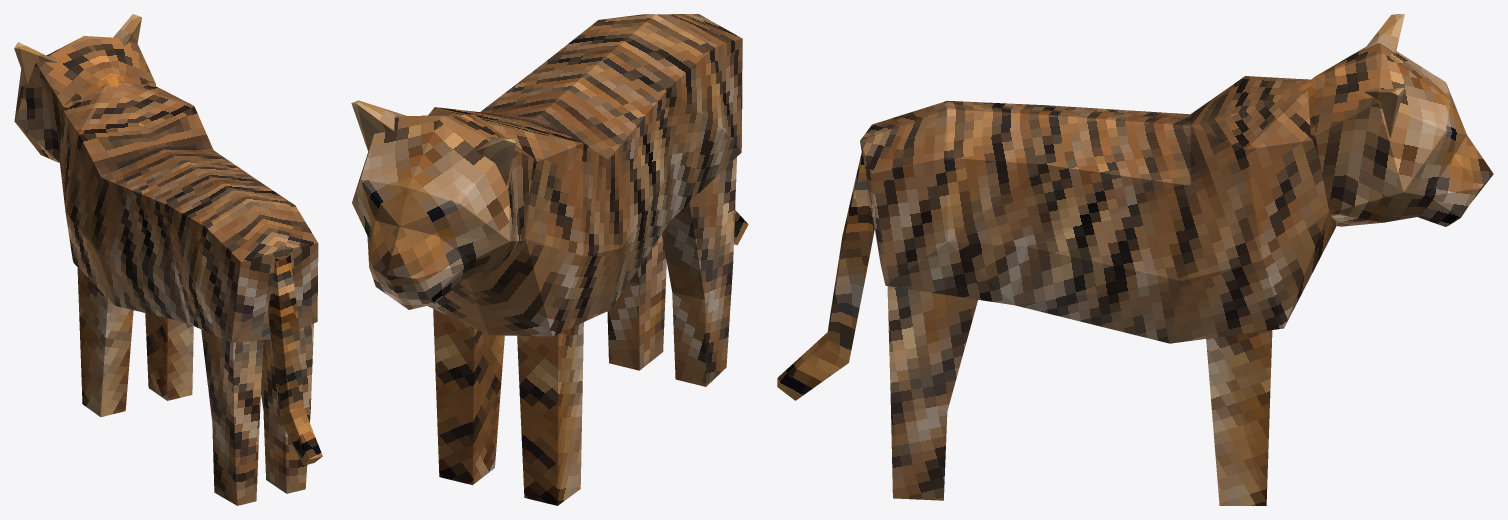
File: Tiger_Tiger.glb
3 renders of one model, left to right at view 1: azimuth 30°, elevation 25°; view 2: azimuth 150°, elevation 25°; view 3: azimuth 270°, elevation 25°, orthographic. The views are drawn at different scales.
Visible parts, largest first — view 1: Body, Head, Leg3, Leg1, Leg4, Leg2; view 2: Body, Head, Leg3, Leg1, Leg2, Leg4; view 3: Body, Head, Leg4, Leg2.
Part boxes in pixels (x1=…): Body: x1=59, y1=80, x2=322, y2=465; Head: x1=14, y1=14, x2=155, y2=162; Leg3: x1=201, y1=329, x2=263, y2=505; Leg1: x1=77, y1=267, x2=133, y2=417; Leg4: x1=261, y1=323, x2=313, y2=493; Leg2: x1=145, y1=313, x2=193, y2=400; Body: x1=427, y1=14, x2=748, y2=336; Head: x1=351, y1=100, x2=533, y2=309; Leg3: x1=661, y1=157, x2=736, y2=386; Leg1: x1=517, y1=322, x2=583, y2=505; Leg2: x1=433, y1=309, x2=504, y2=484; Leg4: x1=607, y1=234, x2=666, y2=370; Body: x1=777, y1=76, x2=1336, y2=400; Head: x1=1298, y1=14, x2=1493, y2=226; Leg4: x1=887, y1=286, x2=977, y2=500; Leg2: x1=1206, y1=330, x2=1272, y2=505.
Bounding box in the file's own units: 0.5343 × 1.29 × 1.97.
Materials: 1 (1 with a texture image).
